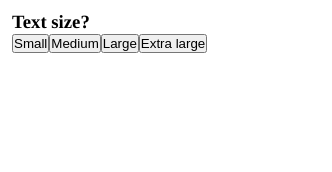
Test: TextSizeSection › applies the picked size live to this thread only, and keeps it
The width and height of the screenshot is (332, 172).
Click the radio button labelled "Extra large" at (173,44), box [139,34,207,53]
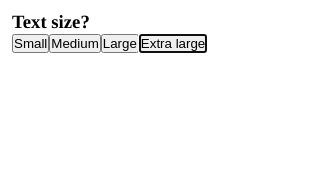
Check: the radio button labelled "Extra large" is checked, box [139,34,207,53]
